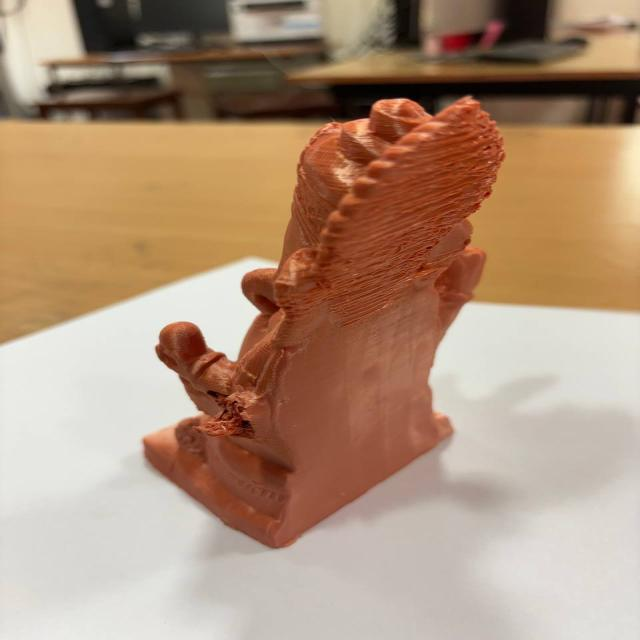cracks: (179, 379, 262, 448)
